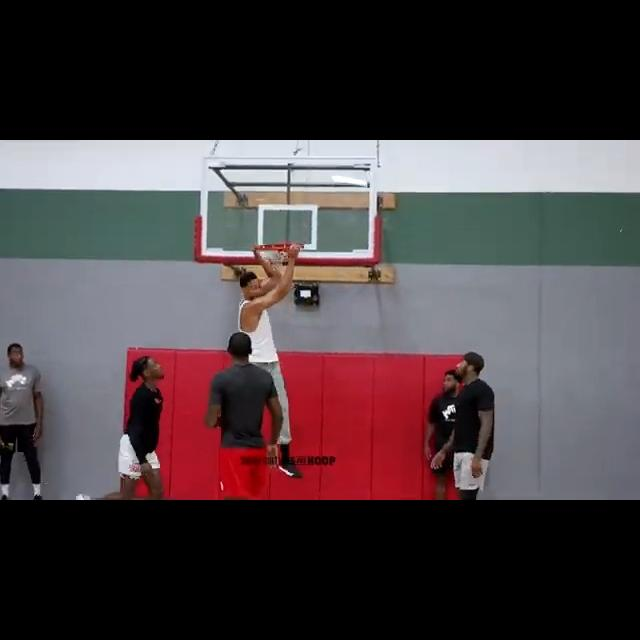hoop: (261, 242, 299, 284)
